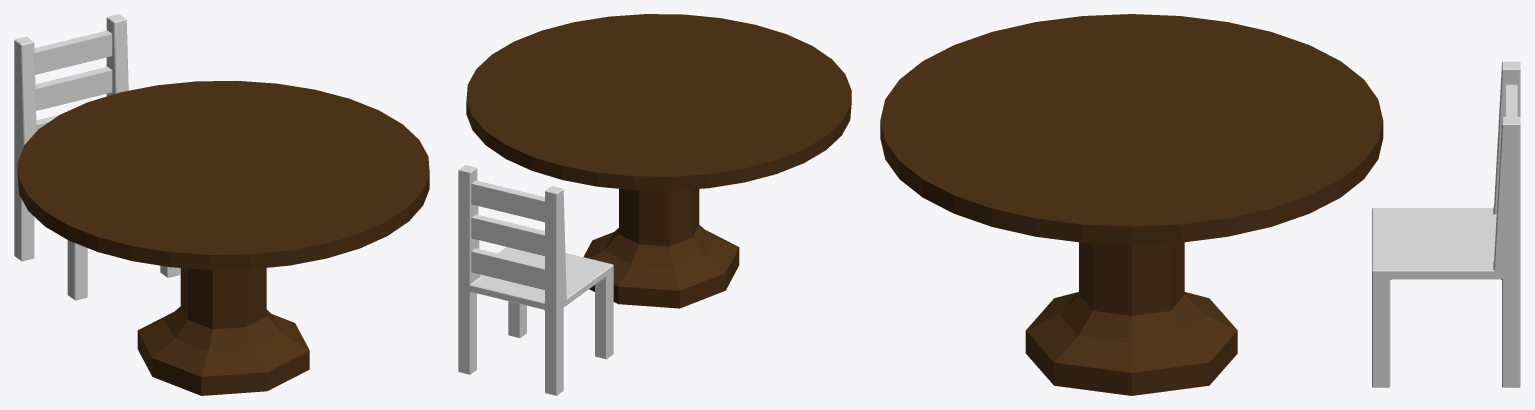
File: Low Poly Table.fbx
The picture shows the model from 3 angles, left to right: view 1: azimuth 30°, elevation 25°; view 2: azimuth 150°, elevation 25°; view 3: azimuth 270°, elevation 25°; orthographic projection. The views are drawn at different scales.
Parts seen in each view (by area): view 1: Cylinder, Cube, Plane; view 2: Cylinder, Cube, Plane; view 3: Cylinder, Cube.
Boxes of the visible parts, x1,y1,x2,y2 form: Cylinder: (17, 81, 429, 395); Cube: (14, 14, 180, 300); Plane: (34, 30, 112, 130); Cylinder: (466, 14, 851, 308); Cube: (458, 165, 613, 395); Plane: (471, 180, 544, 289); Cylinder: (880, 14, 1383, 395); Cube: (1372, 61, 1520, 387).
Bounding box in the file's own units: 676 × 392 × 861.
